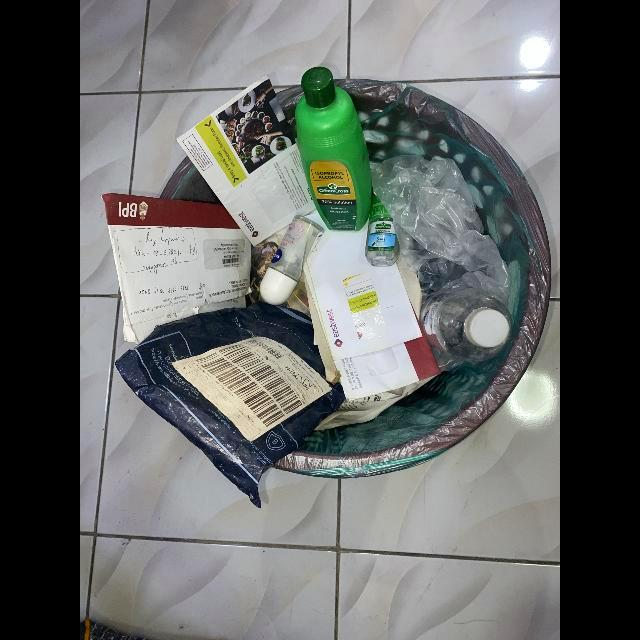glass_bottle: (260, 215, 325, 306)
paper: (303, 210, 441, 401), (176, 77, 316, 247), (101, 194, 251, 346)
plastic_bag: (115, 302, 346, 508), (370, 153, 508, 308)
plastic_bottle: (295, 67, 373, 232), (421, 288, 512, 363), (364, 187, 400, 267)
